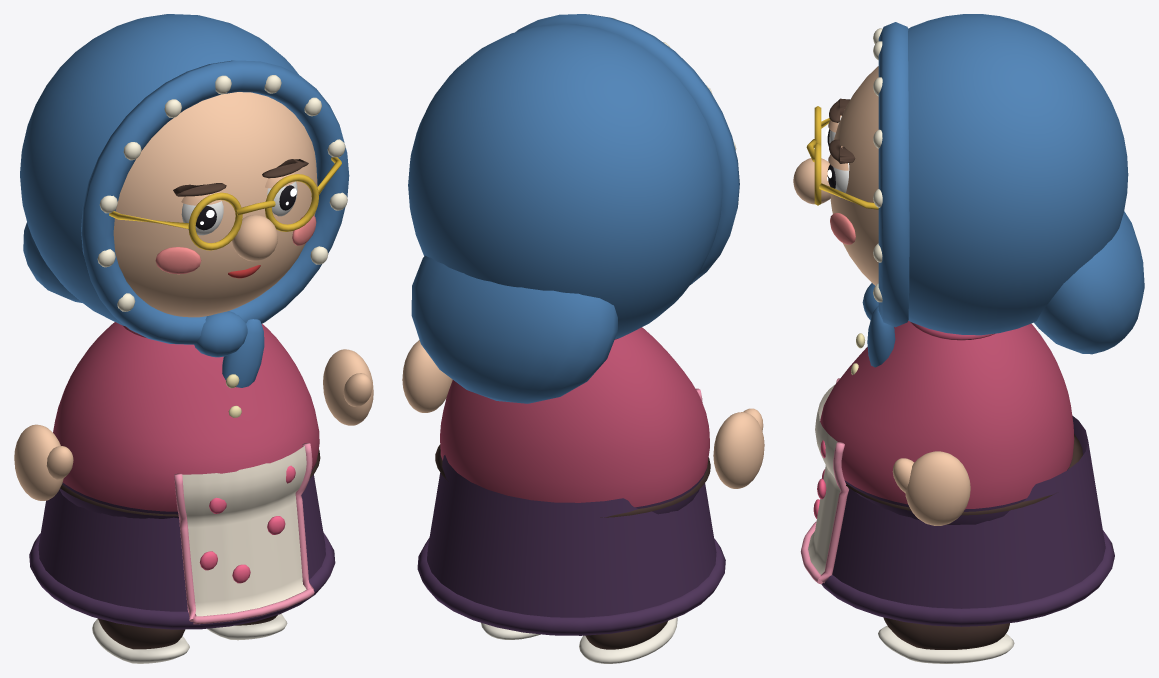
The model's file is char_teyze.glb.
3 views of the same model, side by side, from view 1: azimuth 30°, elevation 25°; view 2: azimuth 150°, elevation 25°; view 3: azimuth 270°, elevation 25° (orthographic).
Parts seen in each view (by area): view 1: Head, Body, HandR, HandL, FootR, FootL, EyeR; view 2: Head, Body, HandR, FootR, HandL; view 3: Head, Body, FootL, HandL.
Boxes of the visible parts, x1,y1,x2,y2 form: Head: [20, 14, 349, 387]; Body: [29, 322, 335, 629]; HandR: [14, 424, 73, 500]; HandL: [323, 349, 373, 425]; FootR: [92, 618, 189, 663]; FootL: [207, 613, 287, 640]; EyeR: [181, 191, 223, 235]; Head: [408, 14, 739, 403]; Body: [417, 327, 725, 635]; HandR: [713, 408, 764, 488]; FootR: [579, 617, 677, 663]; HandL: [402, 340, 452, 412]; Head: [793, 14, 1144, 367]; Body: [800, 321, 1114, 626]; FootL: [878, 617, 1014, 663]; HandL: [892, 451, 970, 525].
Bounding box in the file's own units: 0.856 × 1.4 × 0.7478.
